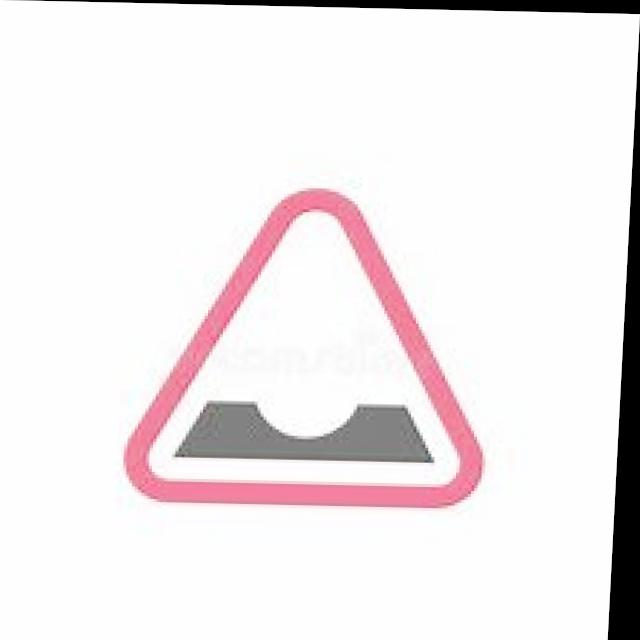DANGEROUS_DIP: (122, 176, 505, 515)
